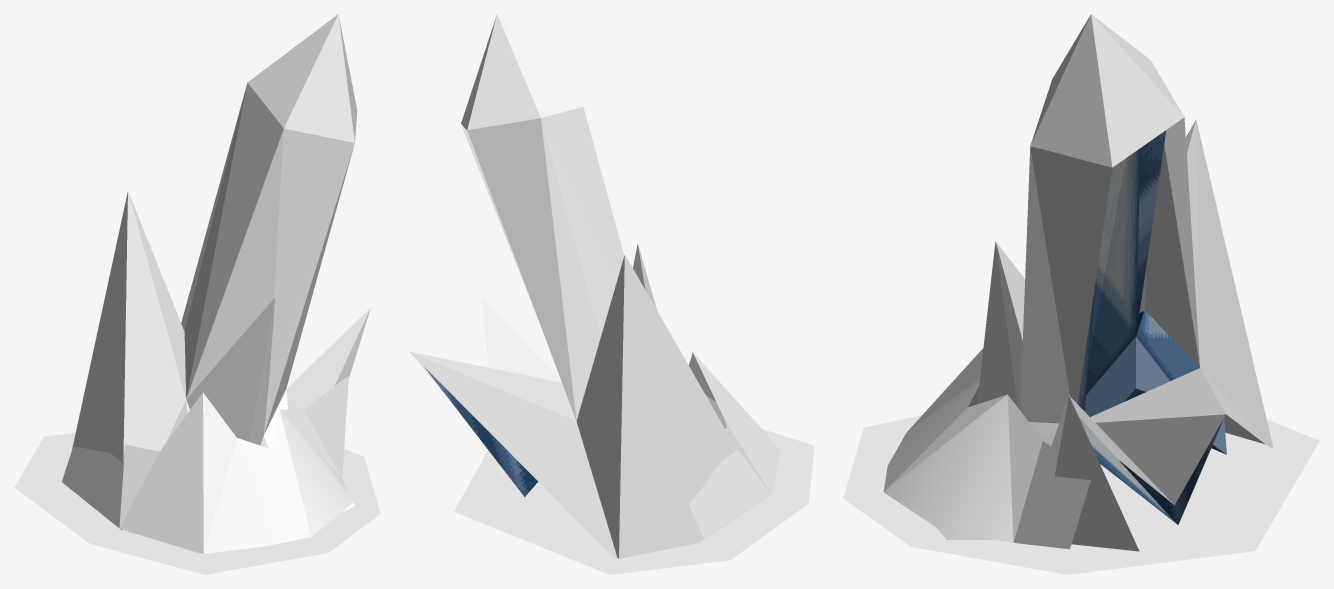
Rendered from bigicicle_01.dae.
3 views of the same model, side by side, from view 1: azimuth 30°, elevation 25°; view 2: azimuth 150°, elevation 25°; view 3: azimuth 270°, elevation 25° (orthographic). The views are drawn at different scales.
Visible parts, largest first — view 1: bigicicle_01; view 2: bigicicle_01; view 3: bigicicle_01.
Part boxes in pixels (<box>): bigicicle_01: <box>14,14,380,574</box>; bigicicle_01: <box>409,14,814,574</box>; bigicicle_01: <box>843,14,1319,574</box>.
Size of the model in its own units: 90.76 by 123 by 95.9.
